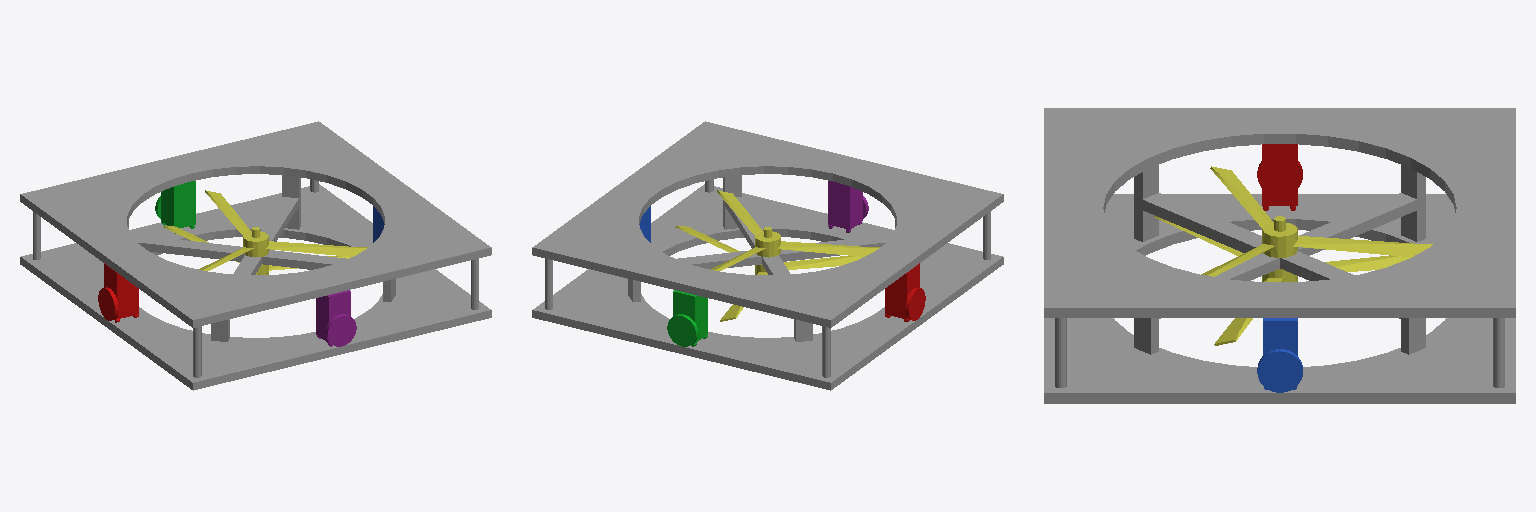
The robot description file, URDF, robot "mmc_uav_description":
<?xml version='1.0' encoding='utf-8'?>
<robot name="mmc_uav_description">
  <link name="base_link">
    <inertial>
      <origin xyz="1.276551954335845e-10 -9.3711794137481968e-06 0.00023637241379310416" rpy="0 0 0" />
      <mass value="1.05" />
      <inertia ixx="0.058500000000000003" ixy="0" ixz="0" iyy="0.058500000000000003" iyz="0" izz="0.059999999999999998" />
    </inertial>
    <visual>
      <origin xyz="1.276551153225845e-10 -9.3711794139119571e-06 -0.034763627586206901" rpy="0 0 0" />
      <geometry>
        <mesh filename="package://mmc_uav_description/meshes/base_link.STL" />
      </geometry>
      <material name="">
        <color rgba="0.65 0.65 0.65 1" />
      </material>
    </visual>
    <collision>
      <origin xyz="1.276551153225845e-10 -9.3711794139119571e-06 -0.034763627586206901" rpy="0 0 0" />
      <geometry>
        <mesh filename="package://mmc_uav_description/meshes/base_link.STL" />
      </geometry>
    </collision>
  </link>
  <link name="rotor_upper_link">
    <inertial>
      <origin xyz="1.8255E-08 6.3335E-09 0.00042643" rpy="0 0 0" />
      <mass value="0.10000000000000001" />
      <inertia ixx="1.0000000000000001e-09" ixy="0" ixz="0" iyy="1.0000000000000001e-09" iyz="0" izz="1.0000000000000001e-09" />
    </inertial>
    <visual>
      <origin xyz="0 0 0" rpy="0 0 0" />
      <geometry>
        <mesh filename="package://mmc_uav_description/meshes/rotor_upper_link.STL" />
      </geometry>
      <material name="">
        <color rgba="0.8 0.8 0.3 1" />
      </material>
    </visual>
    <collision>
      <origin xyz="0 0 0" rpy="0 0 0" />
      <geometry>
        <mesh filename="package://mmc_uav_description/meshes/rotor_upper_link.STL" />
      </geometry>
    </collision>
  </link>
  <joint name="joint_rotor_upper" type="continuous">
    <origin xyz="1.276551153225845e-10 -9.3711794139119571e-06 0.015236372413793104" rpy="0 0 0" />
    <parent link="base_link" />
    <child link="rotor_upper_link" />
    <axis xyz="0 0 1" />
    <limit effort="100" velocity="400" />
  </joint>
  <link name="slider_blue_link">
    <inertial>
      <origin xyz="0.0017202 2.4016E-06 0.028256" rpy="0 0 0" />
      <mass value="0.049999999999999996" />
      <inertia ixx="0.00059999999999999984" ixy="0" ixz="0" iyy="0.00059999999999999984" iyz="0" izz="0.0011999999999999997" />
    </inertial>
    <visual>
      <origin xyz="0 0 0" rpy="0 0 0" />
      <geometry>
        <mesh filename="package://mmc_uav_description/meshes/slider_blue_link.STL" />
      </geometry>
      <material name="">
        <color rgba="0.2 0.4 0.8 1" />
      </material>
    </visual>
    <collision>
      <origin xyz="0 0 0" rpy="0 0 0" />
      <geometry>
        <mesh filename="package://mmc_uav_description/meshes/slider_blue_link.STL" />
      </geometry>
    </collision>
  </link>
  <joint name="joint_slider_blue" type="prismatic">
    <origin xyz="0.1800000001276551 0.00014090882058608804 -0.029733327586206899" rpy="0 0 0" />
    <parent link="base_link" />
    <child link="slider_blue_link" />
    <axis xyz="0 1 0" />
    <limit lower="-0.15" upper="0.15" effort="2.0" velocity="0.25" />
  </joint>
  <link name="slider_red_link">
    <inertial>
      <origin xyz="-0.0017202 -2.4016E-06 0.028256" rpy="0 0 0" />
      <mass value="0.049999999999999996" />
      <inertia ixx="0.00059999999999999984" ixy="0" ixz="0" iyy="0.00059999999999999984" iyz="0" izz="0.0011999999999999997" />
    </inertial>
    <visual>
      <origin xyz="0 0 0" rpy="0 0 0" />
      <geometry>
        <mesh filename="package://mmc_uav_description/meshes/slider_red_link.STL" />
      </geometry>
      <material name="">
        <color rgba="0.8 0.1 0.1 1" />
      </material>
    </visual>
    <collision>
      <origin xyz="0 0 0" rpy="0 0 0" />
      <geometry>
        <mesh filename="package://mmc_uav_description/meshes/slider_red_link.STL" />
      </geometry>
    </collision>
  </link>
  <joint name="joint_slider_red" type="prismatic">
    <origin xyz="-0.17999999987234488 0.00011205882058608804 -0.029733327586206899" rpy="0 0 0" />
    <parent link="base_link" />
    <child link="slider_red_link" />
    <axis xyz="0 1 0" />
    <limit lower="-0.15" upper="0.15" effort="2.0" velocity="0.25" />
  </joint>
  <link name="slider_purple_link">
    <inertial>
      <origin xyz="2.4016E-06 -0.0017202 0.028256" rpy="0 0 0" />
      <mass value="0.049999999999999996" />
      <inertia ixx="0.00059999999999999984" ixy="0" ixz="0" iyy="0.00059999999999999984" iyz="0" izz="0.0011999999999999997" />
    </inertial>
    <visual>
      <origin xyz="0 0 0" rpy="0 0 0" />
      <geometry>
        <mesh filename="package://mmc_uav_description/meshes/slider_purple_link.STL" />
      </geometry>
      <material name="">
        <color rgba="0.6 0.2 0.6 1" />
      </material>
    </visual>
    <collision>
      <origin xyz="0 0 0" rpy="0 0 0" />
      <geometry>
        <mesh filename="package://mmc_uav_description/meshes/slider_purple_link.STL" />
      </geometry>
    </collision>
  </link>
  <joint name="joint_slider_purple" type="prismatic">
    <origin xyz="1.276551153225845e-10 -0.1800093711794139 -0.029733327586206899" rpy="0 0 0" />
    <parent link="base_link" />
    <child link="slider_purple_link" />
    <axis xyz="-1 0 0" />
    <limit lower="-0.15" upper="0.15" effort="2.0" velocity="0.25" />
  </joint>
  <link name="slider_green_link">
    <inertial>
      <origin xyz="-2.4016E-06 0.0017202 0.028256" rpy="0 0 0" />
      <mass value="0.049999999999999996" />
      <inertia ixx="0.00059999999999999984" ixy="0" ixz="0" iyy="0.00059999999999999984" iyz="0" izz="0.0011999999999999997" />
    </inertial>
    <visual>
      <origin xyz="0 0 0" rpy="0 0 0" />
      <geometry>
        <mesh filename="package://mmc_uav_description/meshes/slider_green_link.STL" />
      </geometry>
      <material name="">
        <color rgba="0.1 0.7 0.2 1" />
      </material>
    </visual>
    <collision>
      <origin xyz="0 0 0" rpy="0 0 0" />
      <geometry>
        <mesh filename="package://mmc_uav_description/meshes/slider_green_link.STL" />
      </geometry>
    </collision>
  </link>
  <joint name="joint_slider_green" type="prismatic">
    <origin xyz="1.276551153225845e-10 0.17999062882058608 -0.029733327586206899" rpy="0 0 0" />
    <parent link="base_link" />
    <child link="slider_green_link" />
    <axis xyz="-1 0 0" />
    <limit lower="-0.15" upper="0.15" effort="2.0" velocity="0.25" />
  </joint>
  <link name="rotor_lower_link">
    <inertial>
      <origin xyz="-2.0106E-08 2.0768E-08 -0.00042643" rpy="0 0 0" />
      <mass value="0.10000000000000001" />
      <inertia ixx="1.0000000000000001e-09" ixy="0" ixz="0" iyy="1.0000000000000001e-09" iyz="0" izz="1.0000000000000001e-09" />
    </inertial>
    <visual>
      <origin xyz="0 0 0" rpy="0 0 0" />
      <geometry>
        <mesh filename="package://mmc_uav_description/meshes/rotor_lower_link.STL" />
      </geometry>
      <material name="">
        <color rgba="0.8 0.8 0.3 1" />
      </material>
    </visual>
    <collision>
      <origin xyz="0 0 0" rpy="0 0 0" />
      <geometry>
        <mesh filename="package://mmc_uav_description/meshes/rotor_lower_link.STL" />
      </geometry>
    </collision>
  </link>
  <joint name="joint_rotor_lower" type="continuous">
    <origin xyz="1.276551153225845e-10 -9.3711794139119571e-06 -0.014763627586206899" rpy="0 0 0" />
    <parent link="base_link" />
    <child link="rotor_lower_link" />
    <axis xyz="0 0 1" />
    <limit effort="100" velocity="400" />
  </joint>
  <gazebo>
    <plugin filename="gz-sim-joint-state-publisher-system" name="gz::sim::systems::JointStatePublisher">
      <topic>/model/mmc_uav/joint_state</topic>
    </plugin>
    <plugin filename="mmc-slider-servo-system" name="mmc::SliderServo">
      <joint_name>joint_slider_blue</joint_name>
      <topic>/model/mmc_uav/joint/joint_slider_blue/cmd_pos</topic>
      <wn>30.0</wn>
      <zeta>1.2</zeta>
      <moving_mass>0.049999999999999996</moving_mass>
      <velocity_limit>0.25</velocity_limit>
      <command_limit>0.135</command_limit>
      <mechanical_limit>0.15</mechanical_limit>
      <effort_limit>2.0</effort_limit>
      <load_observer_tau>0.02</load_observer_tau>
    </plugin>
    <plugin filename="mmc-slider-servo-system" name="mmc::SliderServo">
      <joint_name>joint_slider_red</joint_name>
      <topic>/model/mmc_uav/joint/joint_slider_red/cmd_pos</topic>
      <wn>30.0</wn>
      <zeta>1.2</zeta>
      <moving_mass>0.049999999999999996</moving_mass>
      <velocity_limit>0.25</velocity_limit>
      <command_limit>0.135</command_limit>
      <mechanical_limit>0.15</mechanical_limit>
      <effort_limit>2.0</effort_limit>
      <load_observer_tau>0.02</load_observer_tau>
    </plugin>
    <plugin filename="mmc-slider-servo-system" name="mmc::SliderServo">
      <joint_name>joint_slider_green</joint_name>
      <topic>/model/mmc_uav/joint/joint_slider_green/cmd_pos</topic>
      <wn>30.0</wn>
      <zeta>1.2</zeta>
      <moving_mass>0.049999999999999996</moving_mass>
      <velocity_limit>0.25</velocity_limit>
      <command_limit>0.135</command_limit>
      <mechanical_limit>0.15</mechanical_limit>
      <effort_limit>2.0</effort_limit>
      <load_observer_tau>0.02</load_observer_tau>
    </plugin>
    <plugin filename="mmc-slider-servo-system" name="mmc::SliderServo">
      <joint_name>joint_slider_purple</joint_name>
      <topic>/model/mmc_uav/joint/joint_slider_purple/cmd_pos</topic>
      <wn>30.0</wn>
      <zeta>1.2</zeta>
      <moving_mass>0.049999999999999996</moving_mass>
      <velocity_limit>0.25</velocity_limit>
      <command_limit>0.135</command_limit>
      <mechanical_limit>0.15</mechanical_limit>
      <effort_limit>2.0</effort_limit>
      <load_observer_tau>0.02</load_observer_tau>
    </plugin>
    <plugin filename="gz-sim-multicopter-motor-model-system" name="gz::sim::systems::MulticopterMotorModel">
      <robotNamespace>mmc_uav</robotNamespace>
      <jointName>joint_rotor_upper</jointName>
      <linkName>rotor_upper_link</linkName>
      <turningDirection>ccw</turningDirection>
      <timeConstantUp>0.01</timeConstantUp>
      <timeConstantDown>0.02</timeConstantDown>
      <maxRotVelocity>400.0</maxRotVelocity>
      <motorConstant>1.5e-4</motorConstant>
      <momentConstant>0.002</momentConstant>
      <commandSubTopic>command/motor_speed</commandSubTopic>
      <actuator_number>0</actuator_number>
      <rotorDragCoefficient>0.0</rotorDragCoefficient>
      <rollingMomentCoefficient>0.0</rollingMomentCoefficient>
      <motorSpeedPubTopic>motor_speed/upper</motorSpeedPubTopic>
      <rotorVelocitySlowdownSim>10</rotorVelocitySlowdownSim>
      <motorType>velocity</motorType>
    </plugin>
    <plugin filename="gz-sim-multicopter-motor-model-system" name="gz::sim::systems::MulticopterMotorModel">
      <robotNamespace>mmc_uav</robotNamespace>
      <jointName>joint_rotor_lower</jointName>
      <linkName>rotor_lower_link</linkName>
      <turningDirection>cw</turningDirection>
      <timeConstantUp>0.01</timeConstantUp>
      <timeConstantDown>0.02</timeConstantDown>
      <maxRotVelocity>400.0</maxRotVelocity>
      <motorConstant>1.275e-4</motorConstant>
      <momentConstant>0.002</momentConstant>
      <commandSubTopic>command/motor_speed</commandSubTopic>
      <actuator_number>1</actuator_number>
      <rotorDragCoefficient>0.0</rotorDragCoefficient>
      <rollingMomentCoefficient>0.0</rollingMomentCoefficient>
      <motorSpeedPubTopic>motor_speed/lower</motorSpeedPubTopic>
      <rotorVelocitySlowdownSim>10</rotorVelocitySlowdownSim>
      <motorType>velocity</motorType>
    </plugin>
    <plugin filename="gz-sim-odometry-publisher-system" name="gz::sim::systems::OdometryPublisher">
      <odom_frame>mmc_world</odom_frame>
      <robot_base_frame>base_link</robot_base_frame>
      <odom_publish_frequency>100</odom_publish_frequency>
      <odom_topic>/model/mmc_uav/odometry</odom_topic>
      <dimensions>3</dimensions>
    </plugin>
  </gazebo>
  <gazebo reference="base_link">
    <enable_wind>false</enable_wind>
    <sensor name="imu_sensor" type="imu">
      <pose>1.276551153225845e-10 -9.3711794139119571e-06 -0.034763627586206901 0 0 0</pose>
      <always_on>1</always_on>
      <update_rate>250</update_rate>
      <visualize>true</visualize>
      <topic>/imu</topic>
    </sensor>
  </gazebo>
</robot>

--- Render facts (derived) ---
Views: 3 orthographic renders of the robot side by side, from view 1: azimuth 30°, elevation 25°; view 2: azimuth 150°, elevation 25°; view 3: azimuth 270°, elevation 25°.
Robot: mmc_uav_description — 7 links, 6 joints (2 continuous, 4 prismatic); root link base_link; default pose: all joints at 0.
Visible links, largest first — view 1: base_link, rotor_upper_link, slider_purple_link, slider_red_link, slider_green_link; view 2: base_link, rotor_upper_link, slider_green_link, slider_red_link, slider_purple_link, rotor_lower_link; view 3: base_link, rotor_upper_link, slider_blue_link, slider_red_link, rotor_lower_link.
Boxes of the visible links, left/top/right/bottom form: base_link: left=20, top=121, right=491, bottom=390; rotor_upper_link: left=198, top=190, right=367, bottom=270; slider_purple_link: left=316, top=290, right=356, bottom=346; slider_red_link: left=98, top=263, right=138, bottom=322; slider_green_link: left=155, top=181, right=195, bottom=233; base_link: left=532, top=121, right=1003, bottom=390; rotor_upper_link: left=710, top=190, right=879, bottom=270; slider_green_link: left=667, top=290, right=707, bottom=346; slider_red_link: left=885, top=263, right=925, bottom=321; slider_purple_link: left=828, top=181, right=868, bottom=232; rotor_lower_link: left=675, top=226, right=862, bottom=321; base_link: left=1044, top=108, right=1515, bottom=403; rotor_upper_link: left=1201, top=166, right=1432, bottom=276; slider_blue_link: left=1257, top=318, right=1302, bottom=392; slider_red_link: left=1257, top=144, right=1302, bottom=210; rotor_lower_link: left=1154, top=215, right=1411, bottom=345.
Bounding box of the posed robot: 0.4 × 0.4 × 0.09 m (x, y, z).
7 mesh visuals loaded from 7 distinct referenced files (7 binary STL).
